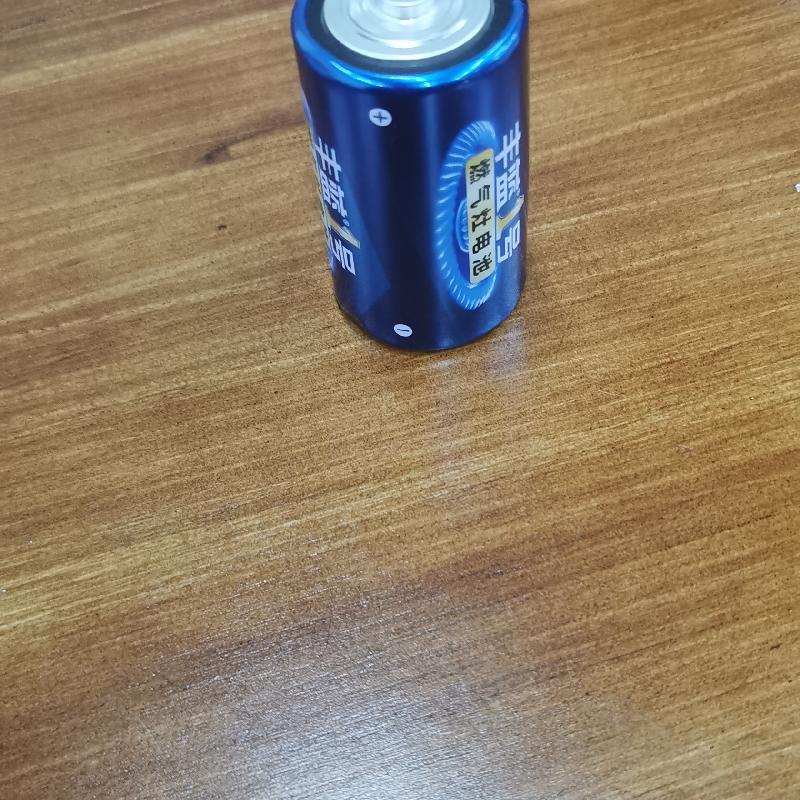battery: (288, 0, 539, 352)
